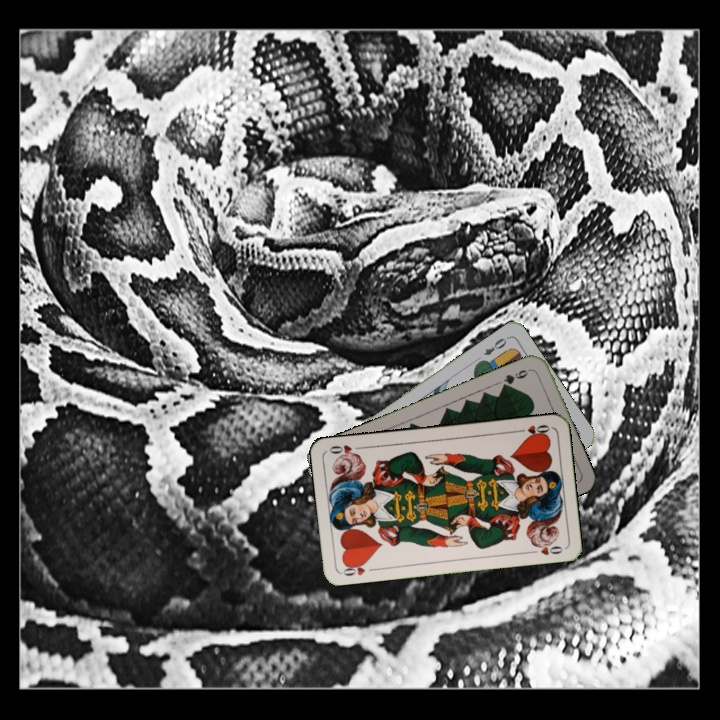EO: (480, 332, 512, 358)
G9: (498, 365, 534, 391)
HO: (338, 558, 378, 578), (512, 420, 552, 439)
